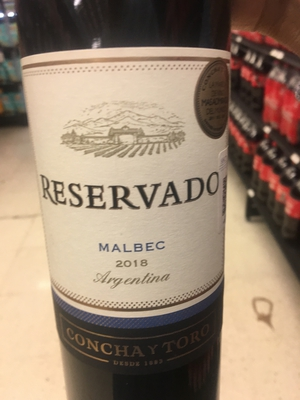reservado malbec: (15, 19, 229, 399)
